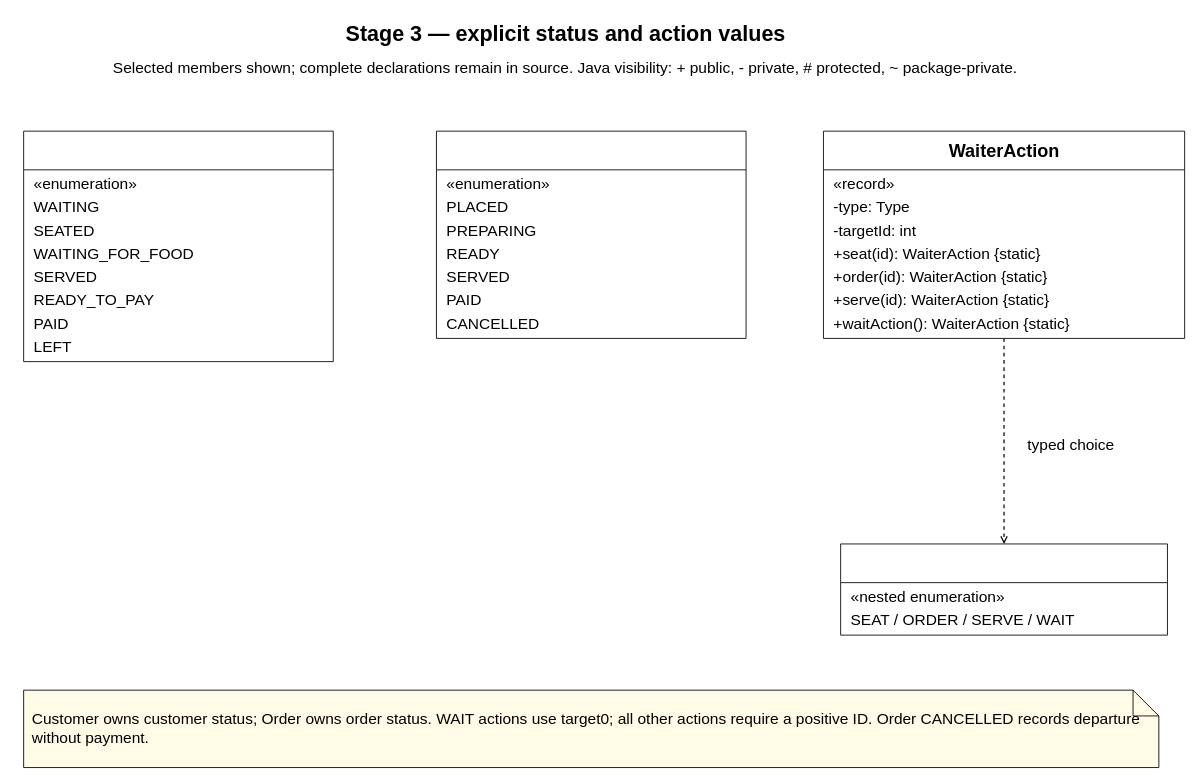
This 1200x783 diagram has some shape labels left out. The box of each missing label's shape, as (x1, y1, x2, y2) in pixels:
CustomerStatus: (23, 130, 333, 362)
OrderStatus: (436, 130, 746, 338)
Type: (840, 543, 1167, 635)
